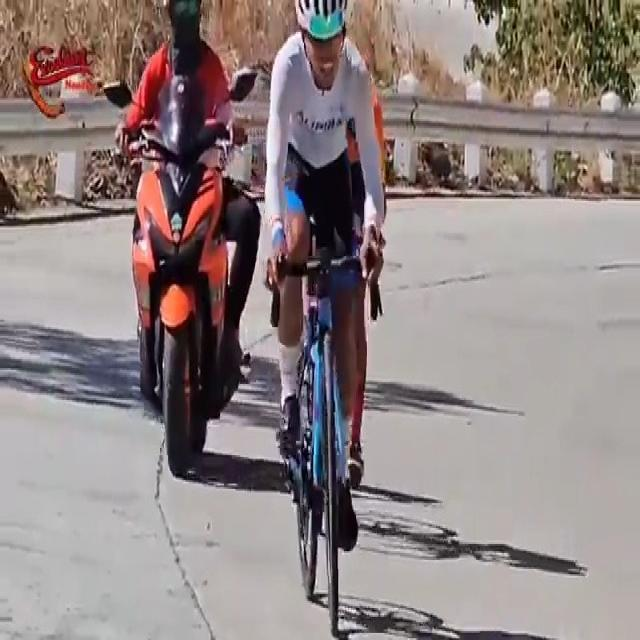bike: (263, 0, 387, 639)
motorcycle: (104, 0, 262, 482)
